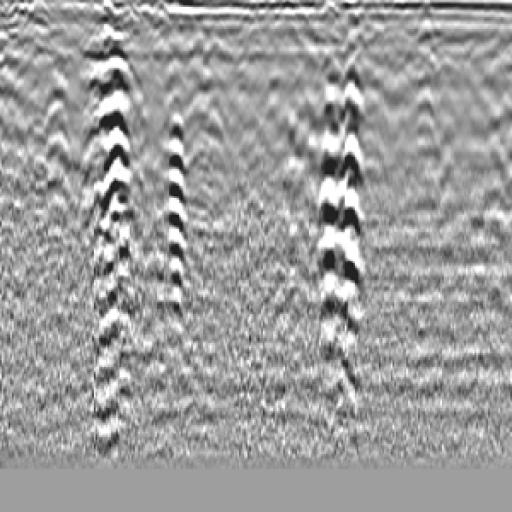metalic: (62, 16, 162, 213)
